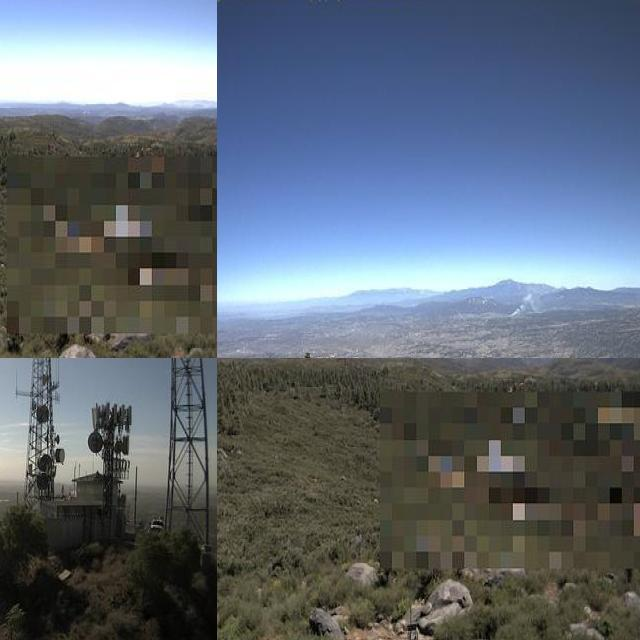smoke: (504, 284, 546, 316)
